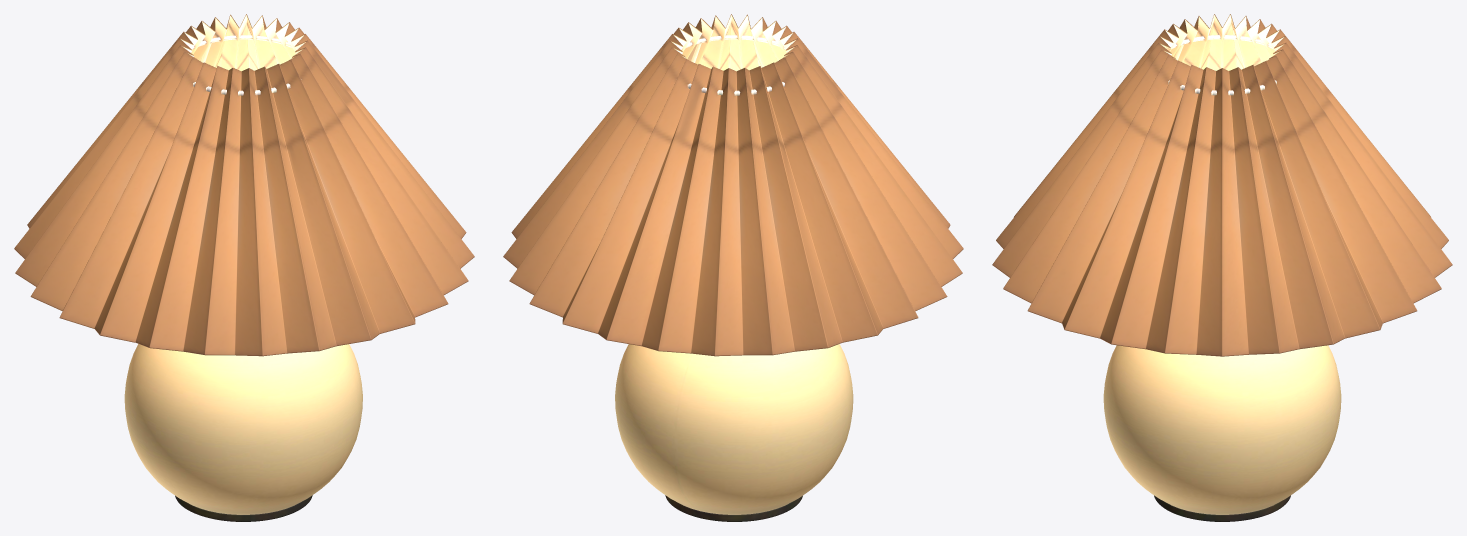
Rendered from lamp35997.glb.
3 views of the same model, side by side, from view 1: azimuth 30°, elevation 25°; view 2: azimuth 150°, elevation 25°; view 3: azimuth 270°, elevation 25° (orthographic).
Parts seen in each view (by area): view 1: lamp35997; view 2: lamp35997; view 3: lamp35997.
Part boxes in pixels (box(x1,y1,x2,y2)): lamp35997: box(14, 14, 474, 521); lamp35997: box(503, 14, 963, 521); lamp35997: box(992, 14, 1452, 521).
Bounding box in the file's own units: 0.24 × 0.2599 × 0.24.
Materials: 4 (3 with a texture image).
